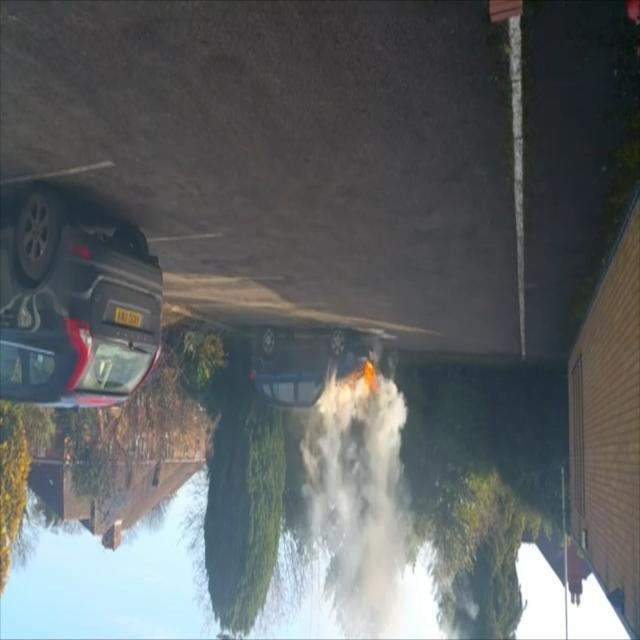fire: (328, 356, 386, 422)
